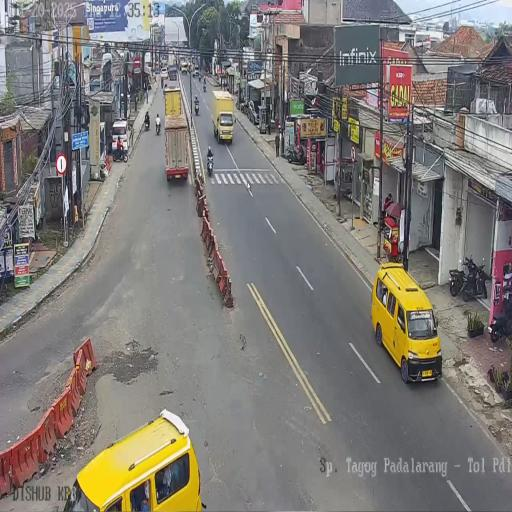car: (371, 262, 441, 383), (111, 118, 130, 158), (248, 100, 260, 124), (161, 67, 168, 80), (193, 66, 200, 77)
motorcycle: (460, 254, 488, 302), (489, 289, 512, 343), (284, 143, 306, 165), (207, 153, 214, 176), (240, 98, 249, 115), (194, 98, 200, 115), (155, 119, 161, 135), (144, 116, 150, 131), (160, 76, 164, 88), (187, 64, 191, 75), (203, 81, 206, 92)
truck: (164, 113, 190, 181), (211, 90, 234, 145), (168, 65, 178, 81), (179, 57, 188, 73), (173, 56, 178, 68)
